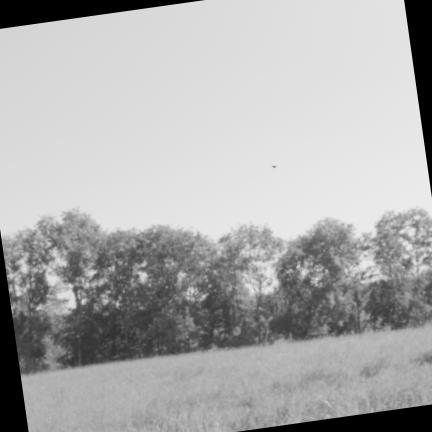Shahed: (271, 165, 276, 167)
